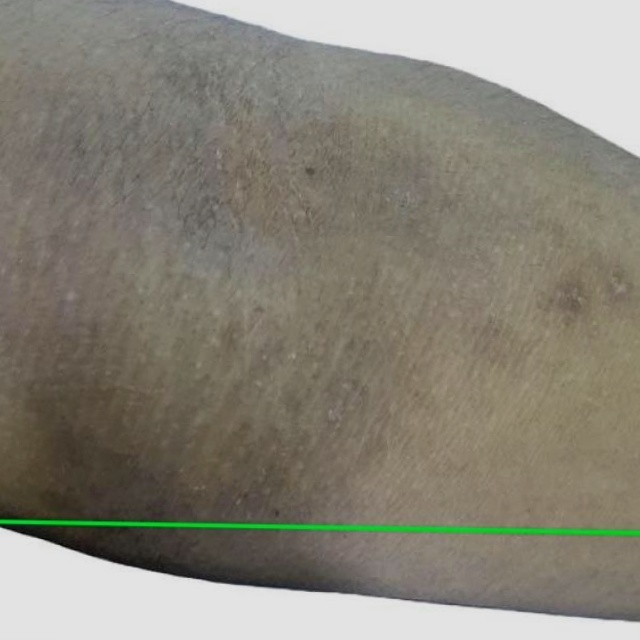Contact Dermatitis: (0, 521, 639, 639)
